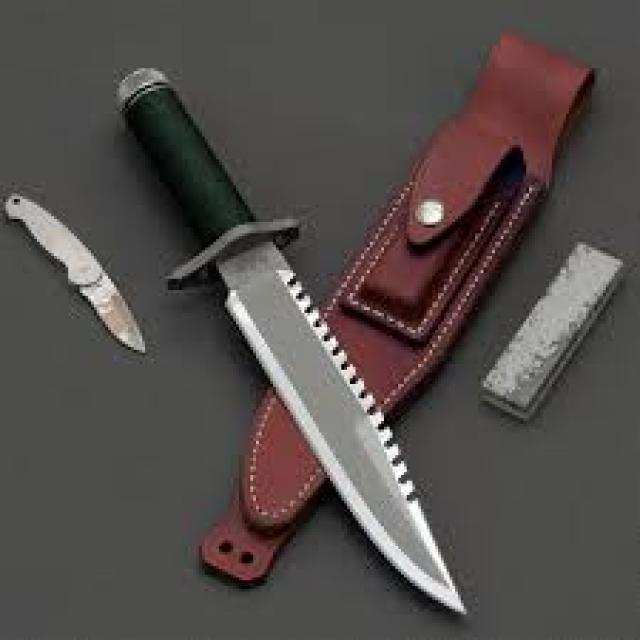knives: (158, 187, 516, 640), (8, 175, 150, 383)
